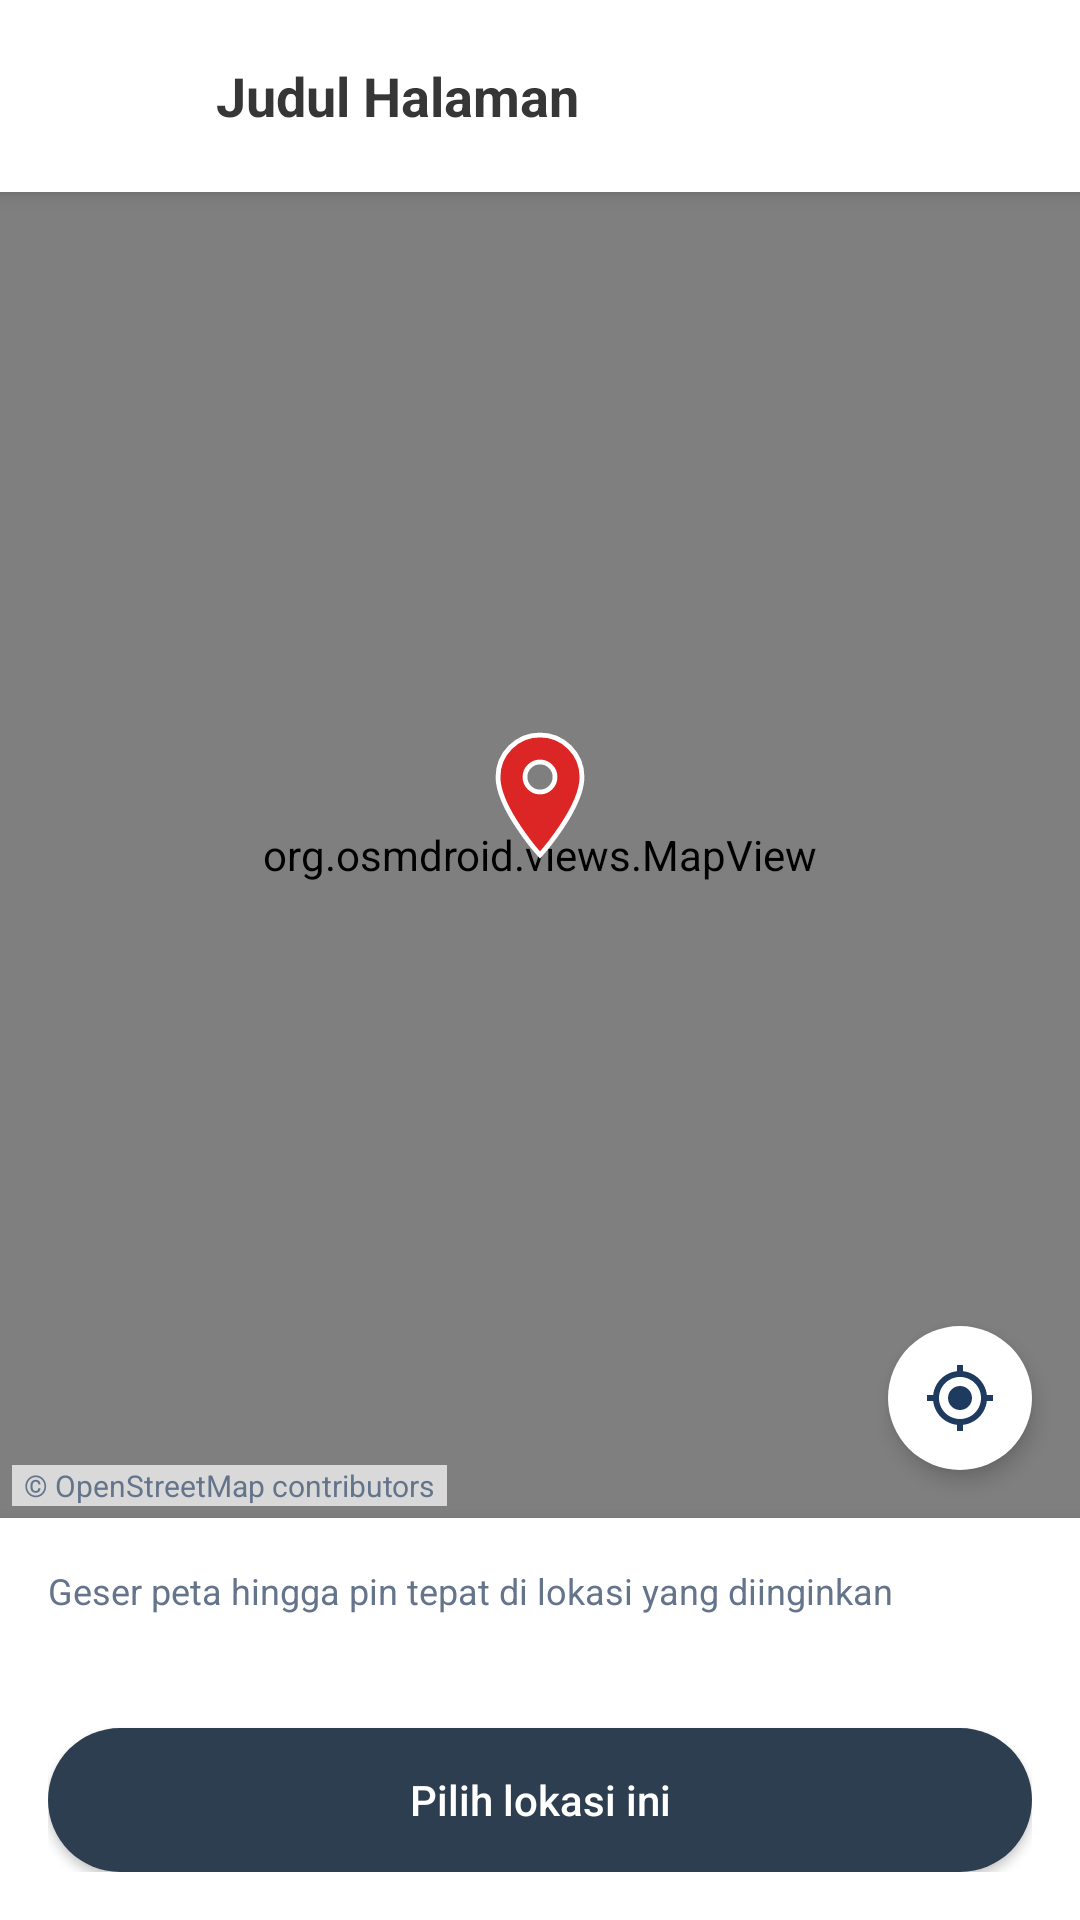

Icon click points for this 1080w x 1920h phone screenshot, format [x,y]:
Ke lokasi saya: [960,1398]
Pin lokasi terpilih: [545,799]
